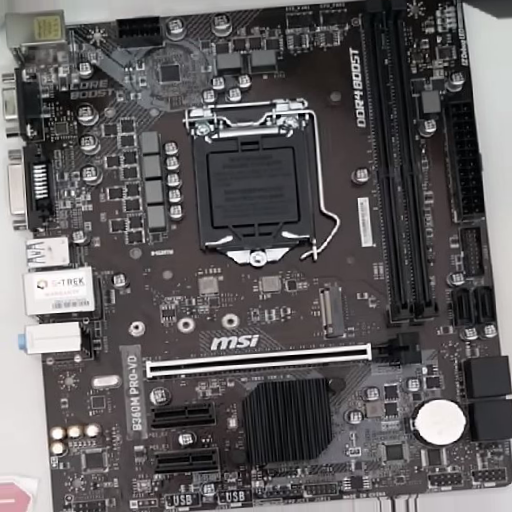CPU: (187, 98, 317, 267)
GPU: (144, 333, 422, 381)
MOTHERBOARD: (21, 1, 508, 512)
RAM: (360, 2, 435, 325)
